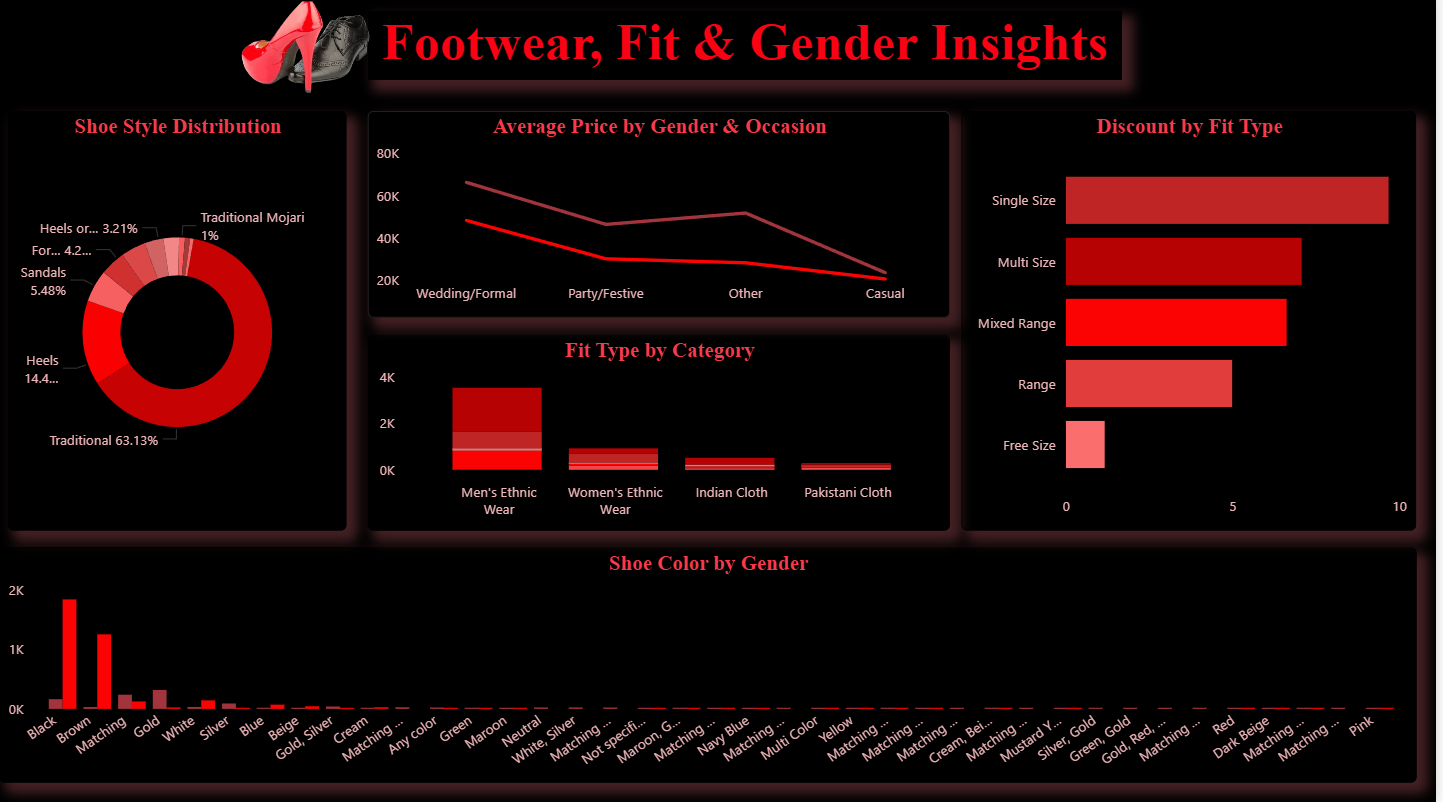

The dashboard page shown, as its layout file describes it:
{"tool":"powerbi","page":{"name":"Footwear, Fit & Gender Insights","canvas":[1280,720],"ordinal":4},"visuals":[{"type":"textbox","title":"Footwear, Fit & Gender Insights","box":[328,13.7,672.4,61.7],"z":0},{"type":"donutChart","title":"Shoe Style Distribution","fields":{"Category":["Wardrobe Assistant.shoe_style"],"Y":["Count(Wardrobe Assistant.product_name)"]},"box":[8.2,102.9,301.9,373.2],"z":1000},{"type":"clusteredColumnChart","title":"Shoe Color by Gender","fields":{"Category":["Wardrobe Assistant.shoe_color"],"Y":["Count(Wardrobe Assistant.product_name)"],"Series":["Wardrobe Assistant.Gender"]},"box":[0,491.3,1262.4,209.9],"z":2000},{"type":"columnChart","title":" Fit Type by Category","fields":{"Y":["Count(Wardrobe Assistant.product_name)"],"Series":["Wardrobe Assistant.fit_type"],"Category":["Wardrobe Assistant.main_category"]},"box":[328,301.9,518.7,174.3],"z":3000},{"type":"lineChart","title":"Average Price by Gender & Occasion ","fields":{"Category":["Wardrobe Assistant.occasion"],"Y":["Avg(Wardrobe Assistant.price_pkr)"],"Series":["Wardrobe Assistant.Gender"]},"box":[328,102.9,518.7,183.9],"z":4000},{"type":"clusteredBarChart","title":"Discount by Fit Type","fields":{"Y":["Avg(Wardrobe Assistant.discount)"],"Category":["Wardrobe Assistant.fit_type"]},"box":[857.6,102.9,404.8,373.2],"z":5000},{"type":"image","box":[196.2,0,163.3,94.7],"z":6001}]}

Visuals, with their boxes in screenshot pixels (x1, y1, x2, y2), scaled from the page's 1280x720 canvas onto the 1443x802 screenshot:
"Footwear, Fit & Gender Insights" textbox: [x1=370, y1=15, x2=1128, y2=84]
"Shoe Style Distribution" donutChart: [x1=9, y1=115, x2=350, y2=530]
"Shoe Color by Gender" clusteredColumnChart: [x1=0, y1=547, x2=1423, y2=781]
" Fit Type by Category" columnChart: [x1=370, y1=336, x2=955, y2=530]
"Average Price by Gender & Occasion " lineChart: [x1=370, y1=115, x2=955, y2=319]
"Discount by Fit Type" clusteredBarChart: [x1=967, y1=115, x2=1423, y2=530]
image: [x1=221, y1=0, x2=405, y2=105]
